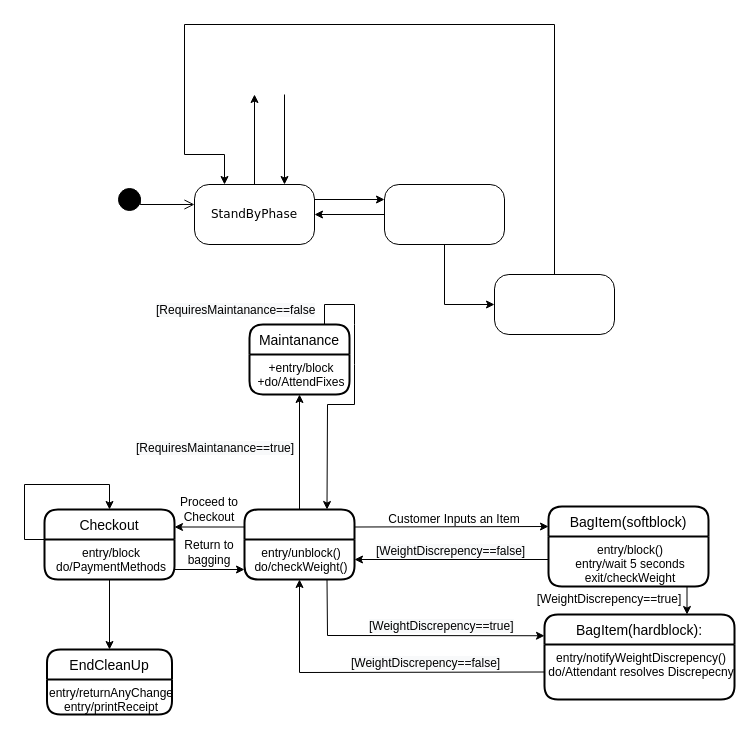
The diagram is 753 pixels wide and 733 high, and some of its shapes have lost their labels. Each missing label, with the box of its shape:
CheckoutPhase: (384, 184, 504, 244)
End phase: (494, 274, 614, 334)
Standby: (243, 508, 355, 580)
